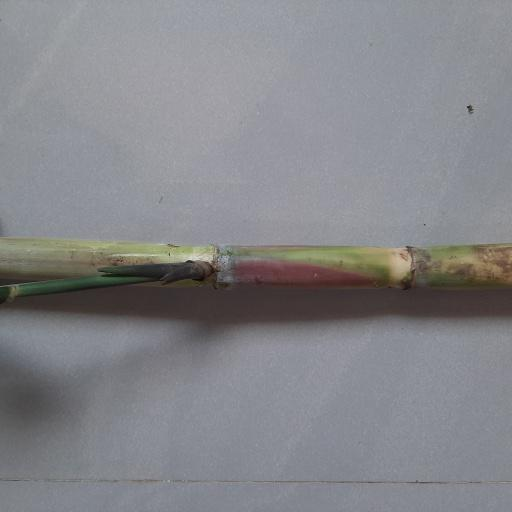Sprouted_Bud: (161, 257, 217, 284)
